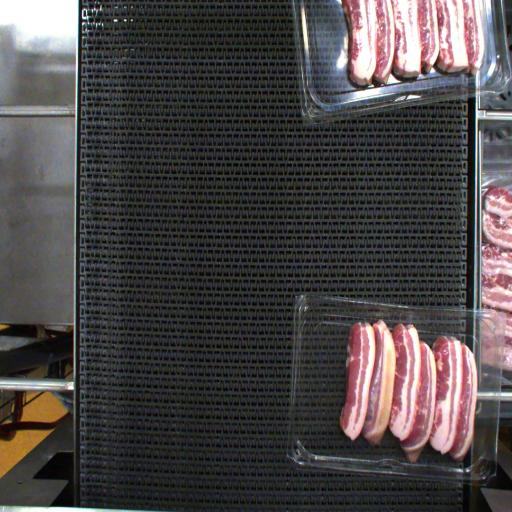twisted-meat: (364, 322, 392, 450)
